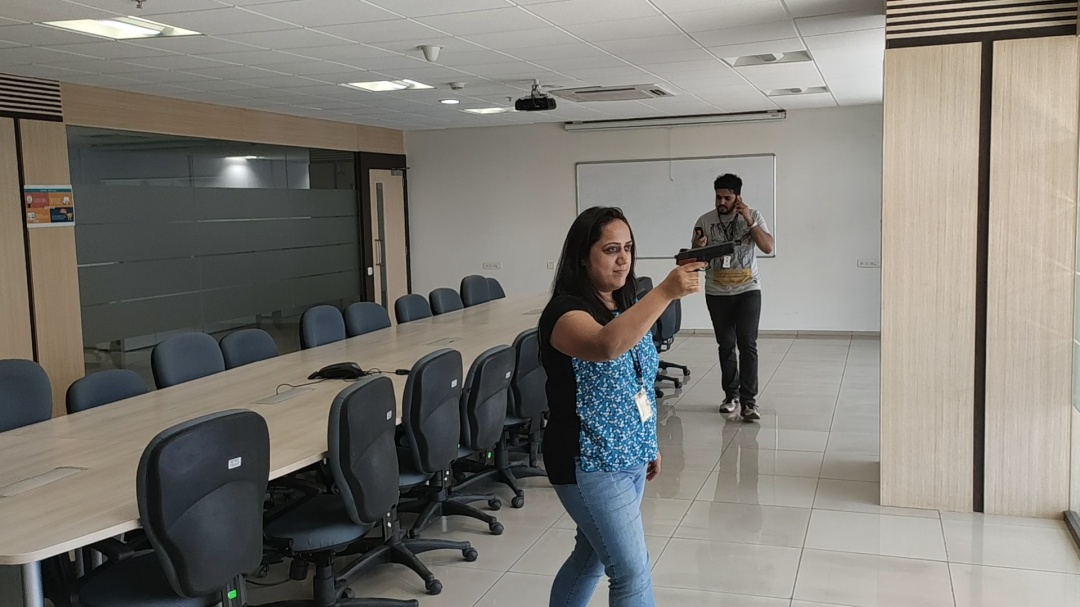gun: (674, 240, 735, 272)
